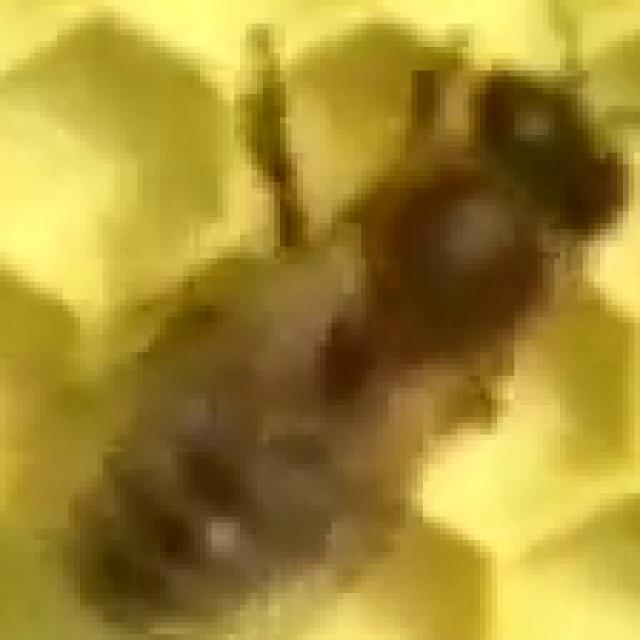honeybee: (52, 85, 610, 561)
